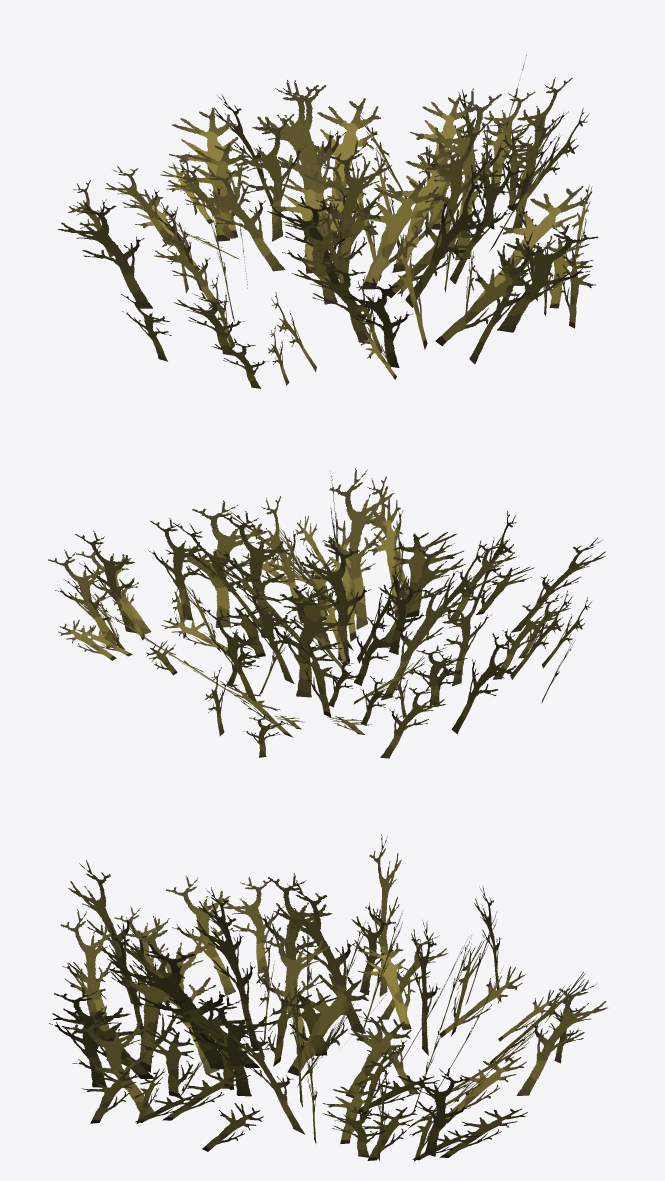
File: Staghorn Coral_preview_3DS_simplified.glb
3 renders of one model, top to bottom at view 1: azimuth 30°, elevation 25°; view 2: azimuth 150°, elevation 25°; view 3: azimuth 270°, elevation 25°, orthographic. The views are drawn at different scales.
Parts seen in each view (by area): view 1: Marine Park Empire model; view 2: Marine Park Empire model; view 3: Marine Park Empire model.
Boxes of the visible parts, x1,y1,x2,y2 form: Marine Park Empire model: (58, 55, 598, 388); Marine Park Empire model: (48, 468, 605, 758); Marine Park Empire model: (49, 834, 607, 1161).
Bounding box in the file's own units: 100 × 31.02 × 91.96.
1 material, 1 textured.
